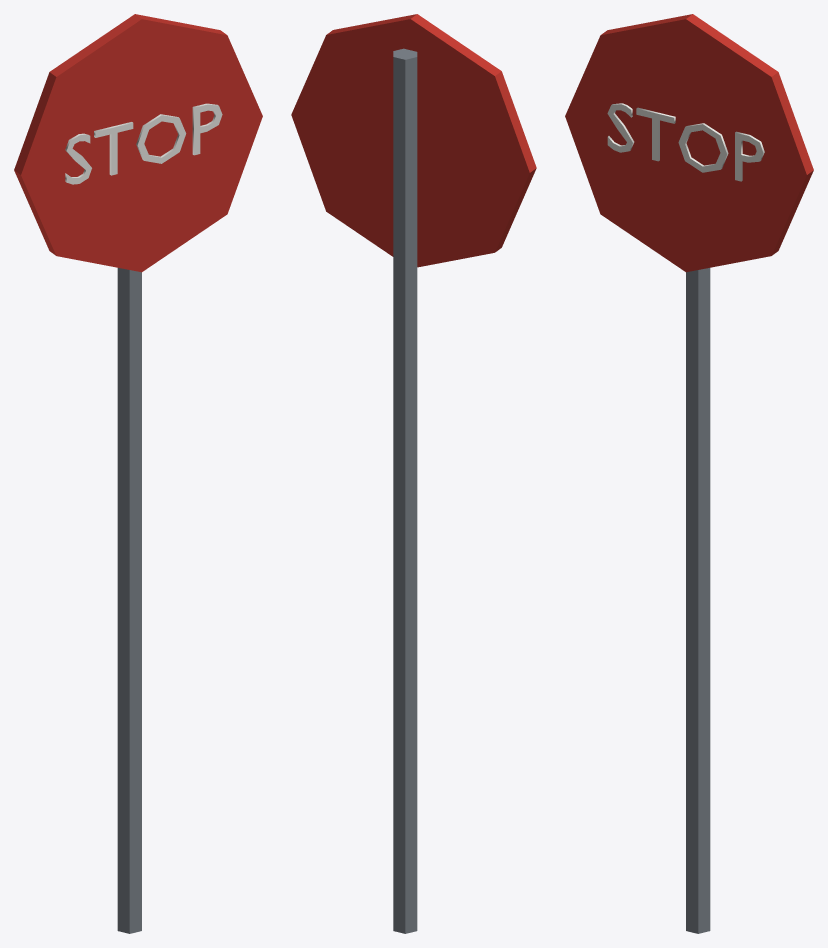
Rendered from sign_stop.glb.
3 renders of one model, left to right at view 1: azimuth 30°, elevation 25°; view 2: azimuth 150°, elevation 25°; view 3: azimuth 330°, elevation 25°, orthographic.
Visible parts, largest first — view 1: sign_stop_Body, sign_stop_T; view 2: sign_stop_Body; view 3: sign_stop_Body, sign_stop_T.
Boxes of the visible parts, <box> form: sign_stop_Body: <box>14,14,262,933</box>; sign_stop_T: <box>65,103,222,184</box>; sign_stop_Body: <box>291,14,536,933</box>; sign_stop_Body: <box>565,14,813,933</box>; sign_stop_T: <box>607,103,764,181</box>.
Bounding box in the file's own units: 0.8 × 2.9 × 0.1136.
